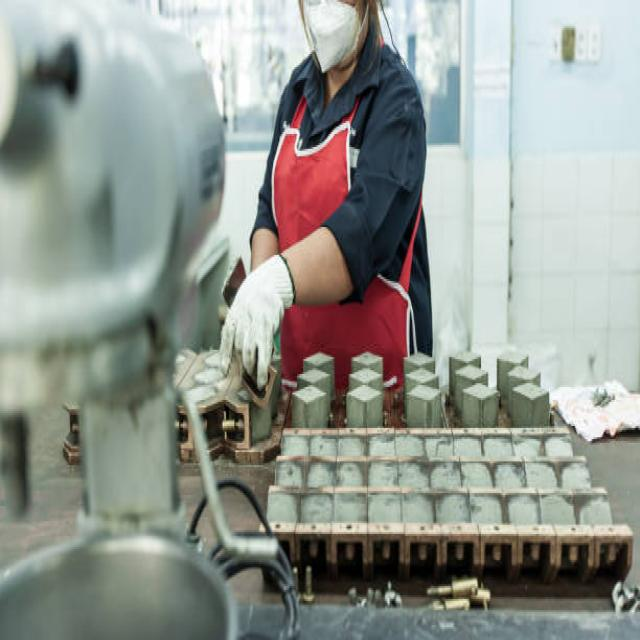Gloves: (216, 249, 298, 395)
person: (216, 1, 441, 405)
